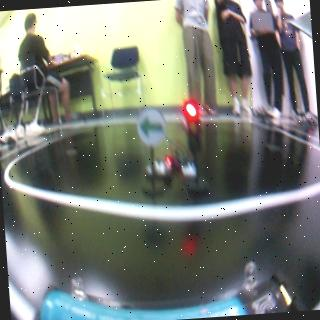left: (138, 108, 164, 144)
red: (180, 98, 207, 195)
